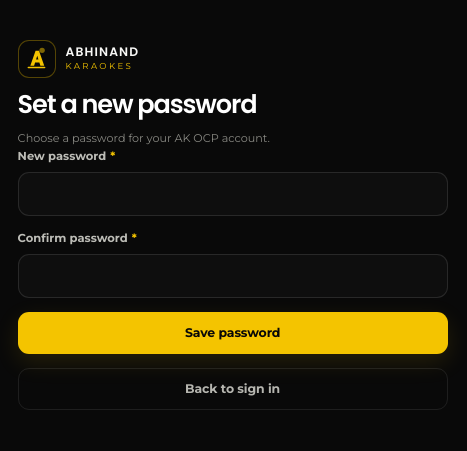
Test: password recovery › does not submit mismatched passwords
In the password field labelled "New password*": (233,194) [18,172,448,216], type "test-password-123"
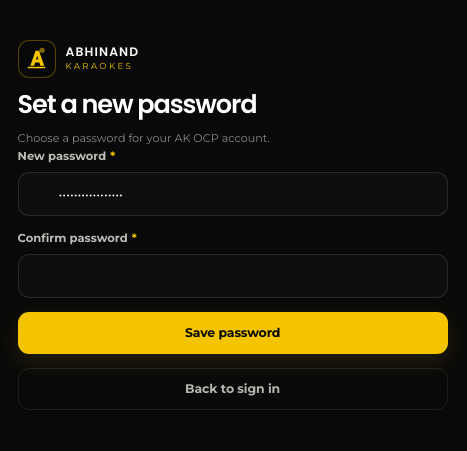
In the password field labelled "Confirm password*": (233,276) [18,254,448,298], type "different-password"
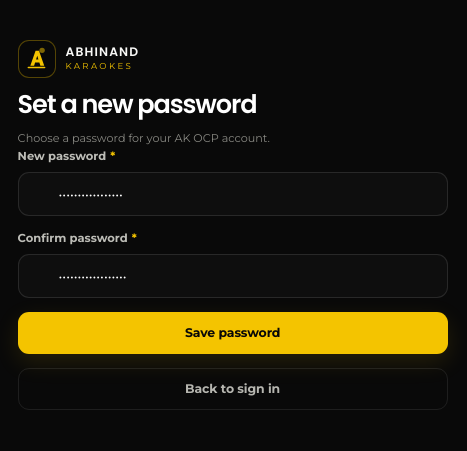
Click the button "Save password": (233,333) [18,312,448,354]
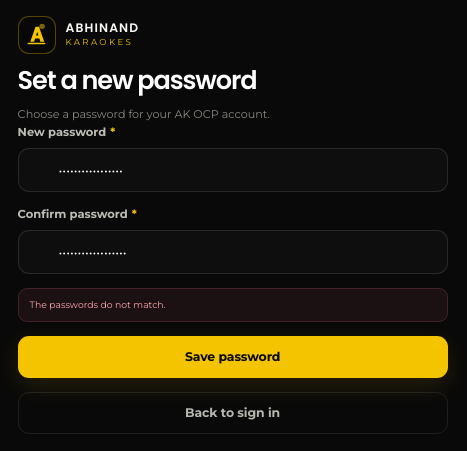
Result: the message shows "do not match" at [30,300,166,310]
